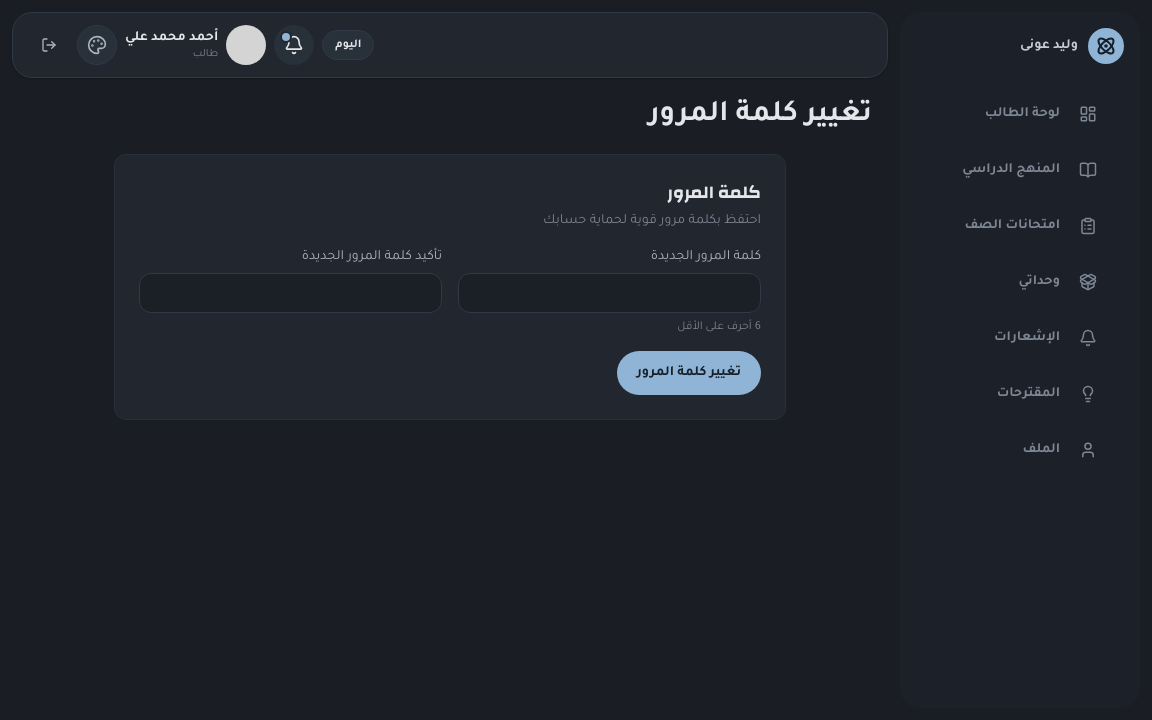
Test: StudentChangePasswordPage › signs out and redirects to login when the session must be re-authenticated
The image size is (1152, 720).
Type "newpass1" into the password field labelled "كلمة المرور الجديدة". click: (610, 293)
box: top-left (458, 273), bottom-right (761, 313)
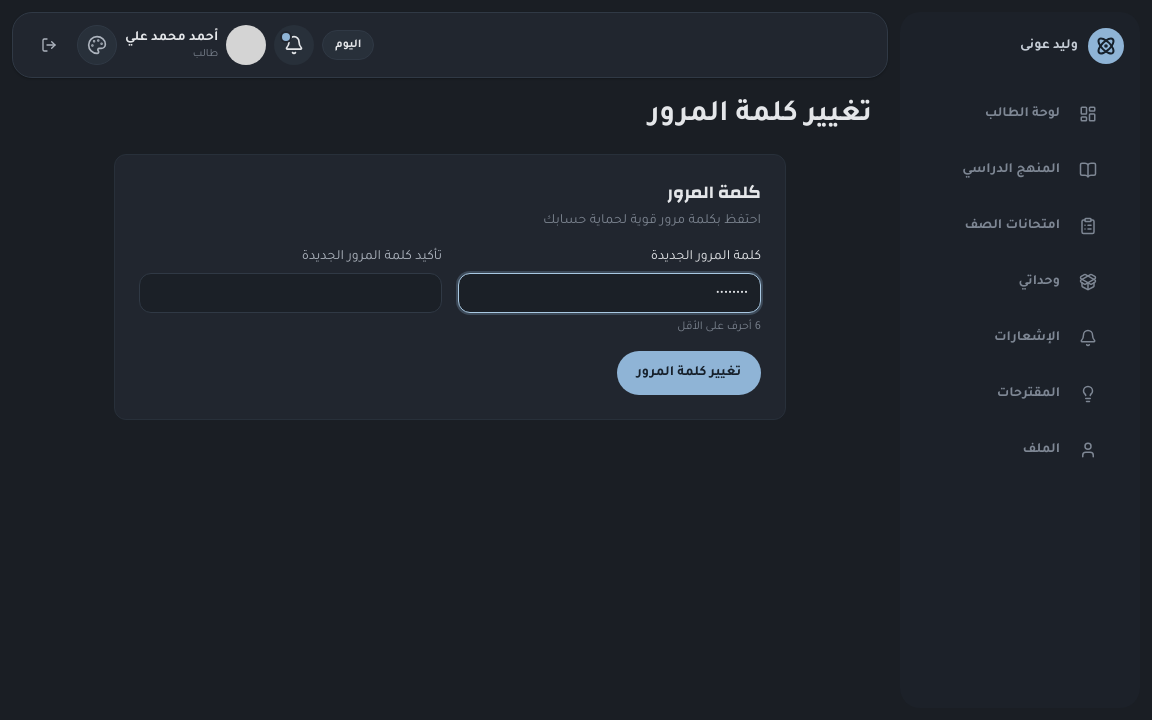
Type "newpass1" into the password field labelled "تأكيد كلمة المرور الجديدة". click: (290, 293)
box: top-left (139, 273), bottom-right (442, 313)
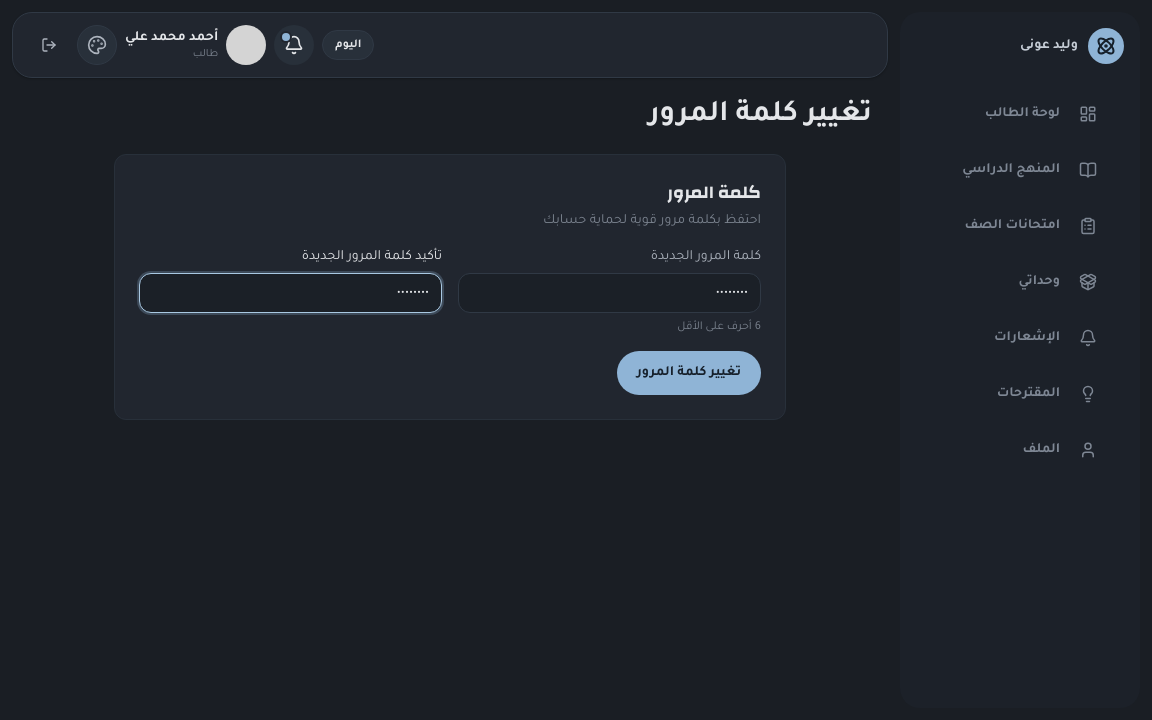
Click the button "تغيير كلمة المرور". click: (689, 373)
box: top-left (617, 351), bottom-right (761, 395)
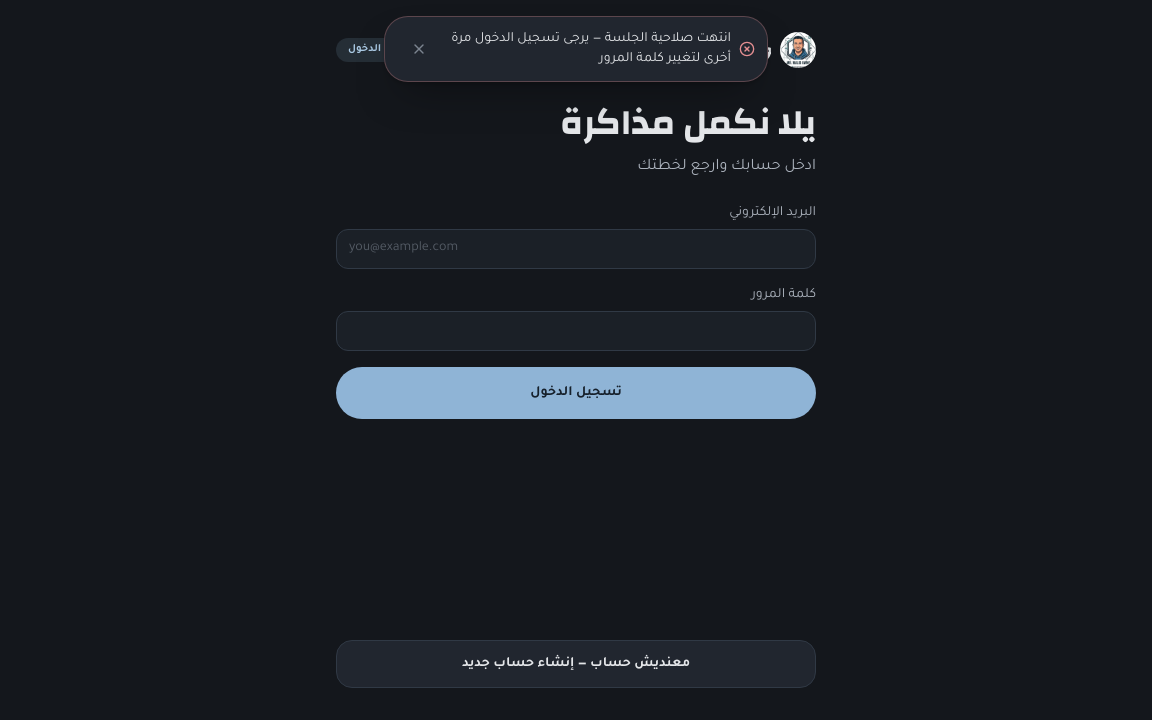
Result: the button "تسجيل الدخول" is shown at top-left (336, 367), bottom-right (816, 419)
Result: the text "انتهت صلاحية الجلسة — يرجى تسجيل الدخول مرة أخرى لتغيير كلمة المرور" is shown at top-left (449, 29), bottom-right (731, 69)
